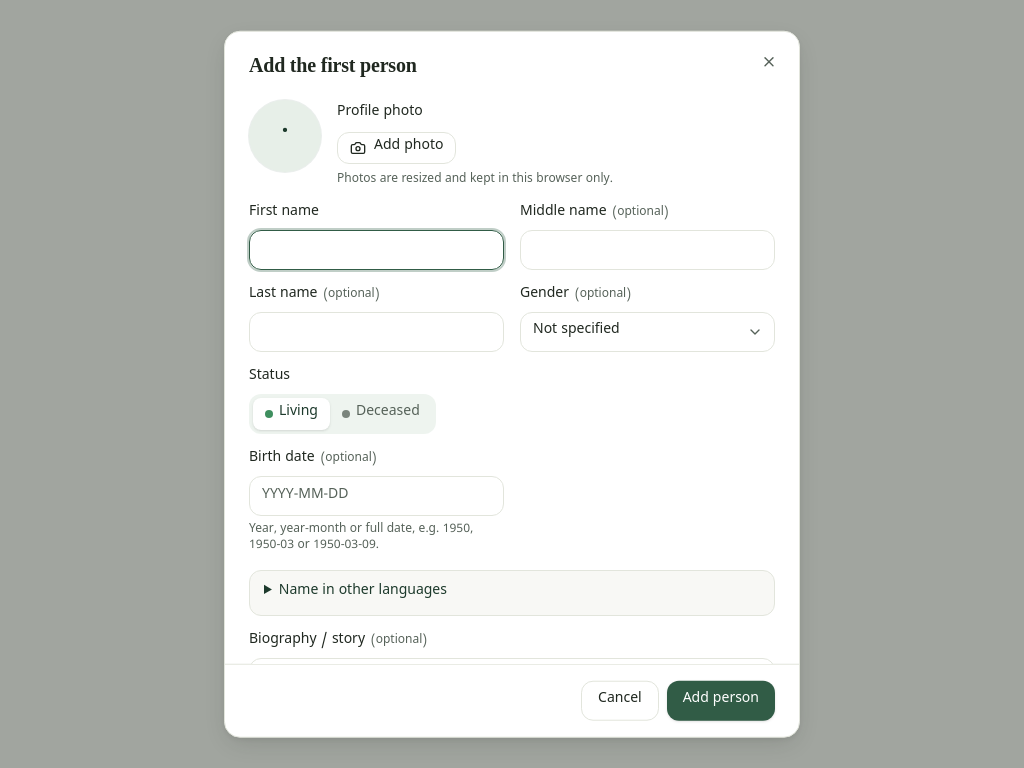
Scenario: PersonDialog › requires a name and shows an accessible error
Click the button "Add person".
click(721, 700)  # box top-left (667, 680), bottom-right (775, 720)
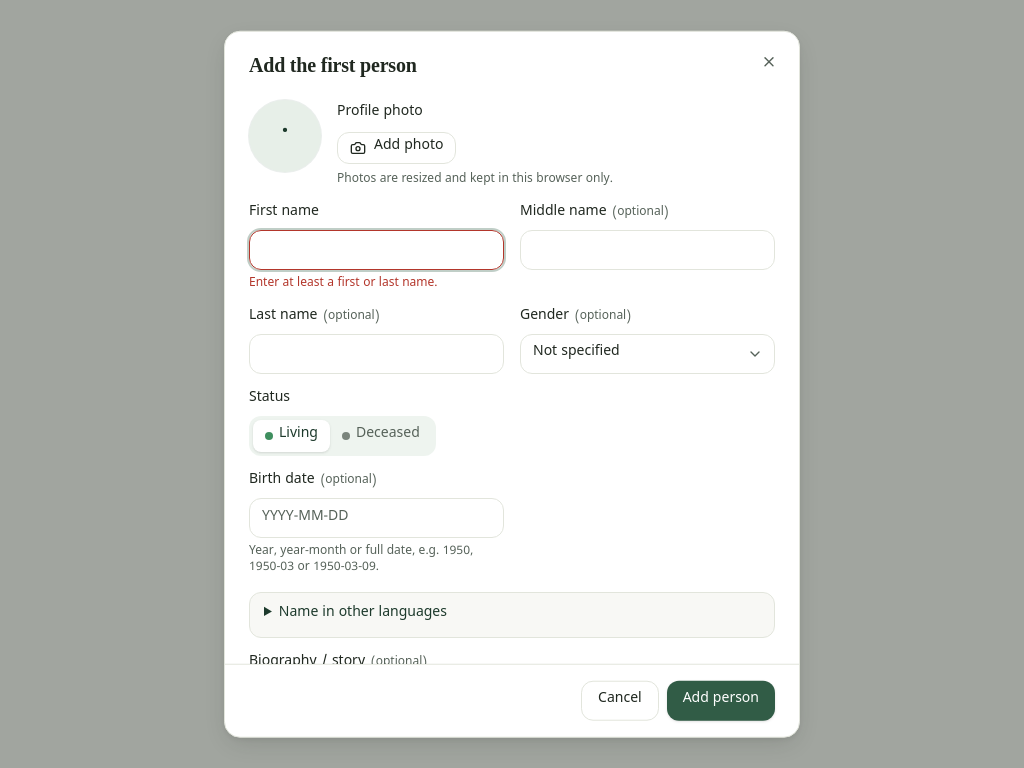
Result: the text "Enter at least a first or last name." is shown at top-left (249, 276), bottom-right (438, 292)
